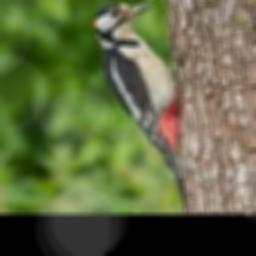Woodpecker: (92, 2, 186, 208)
